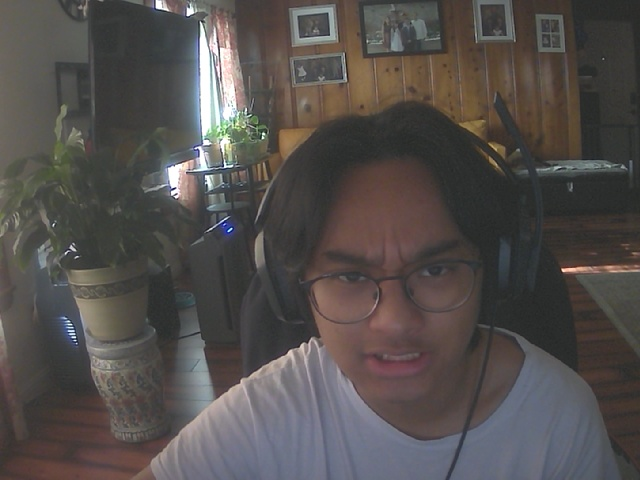anger: (306, 154, 483, 404)
